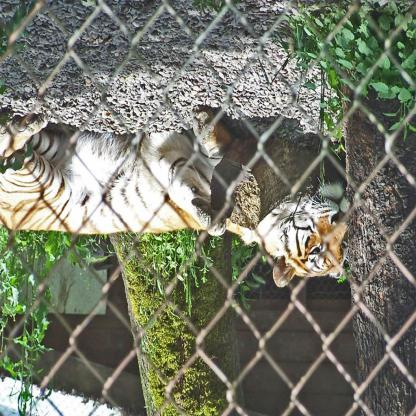tiger: (270, 177, 350, 294)
